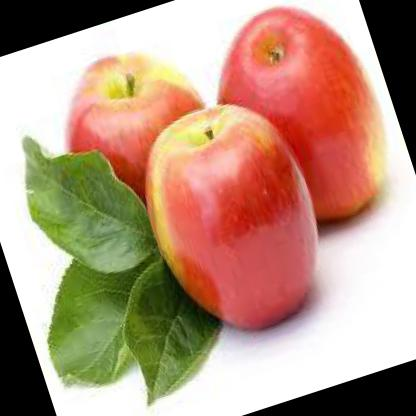apple: (123, 84, 343, 351), (193, 1, 410, 252), (39, 28, 239, 232)
